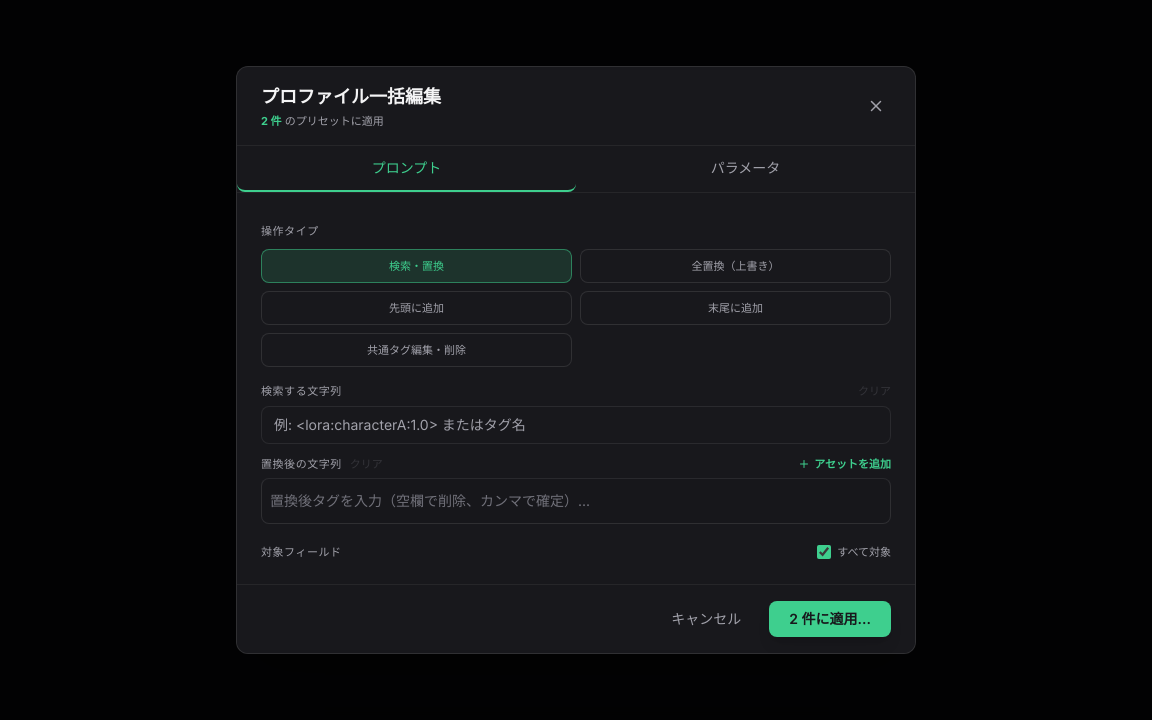
Test: ProfileBulkEditModal Component › REQ-297 Enhanced Bulk Edit Features (AC-1 to AC-7, Red Team) › AC-5: allows multi-selection in search_replace, enforces single exclusive selection in overwrite/prefix/suffix
Expected: the checkbox labelled "すべて対象" is shown, [817,545,831,559]
// Switch to '先頭に追加' (prefix)
Click the button "先頭に追加". click: (416, 308)
box: [261,291,572,325]
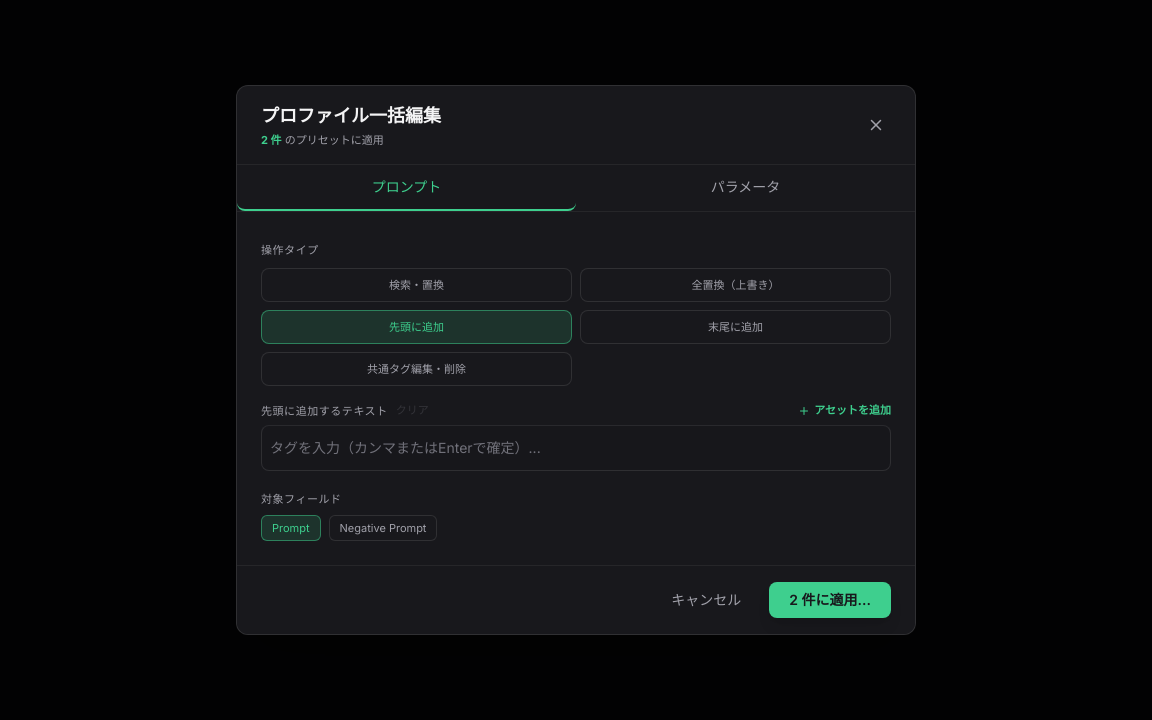
Expected: the label labelled "すべて対象" is gone
Expected: the radio button labelled "Prompt" is checked, [261,515,321,541]
Expected: the radio button labelled "Negative Prompt" is not checked
// Selecting negative prompt should uncheck prompt
Click the radio button labelled "Negative Prompt". click: (383, 528)
box: [329,515,438,541]
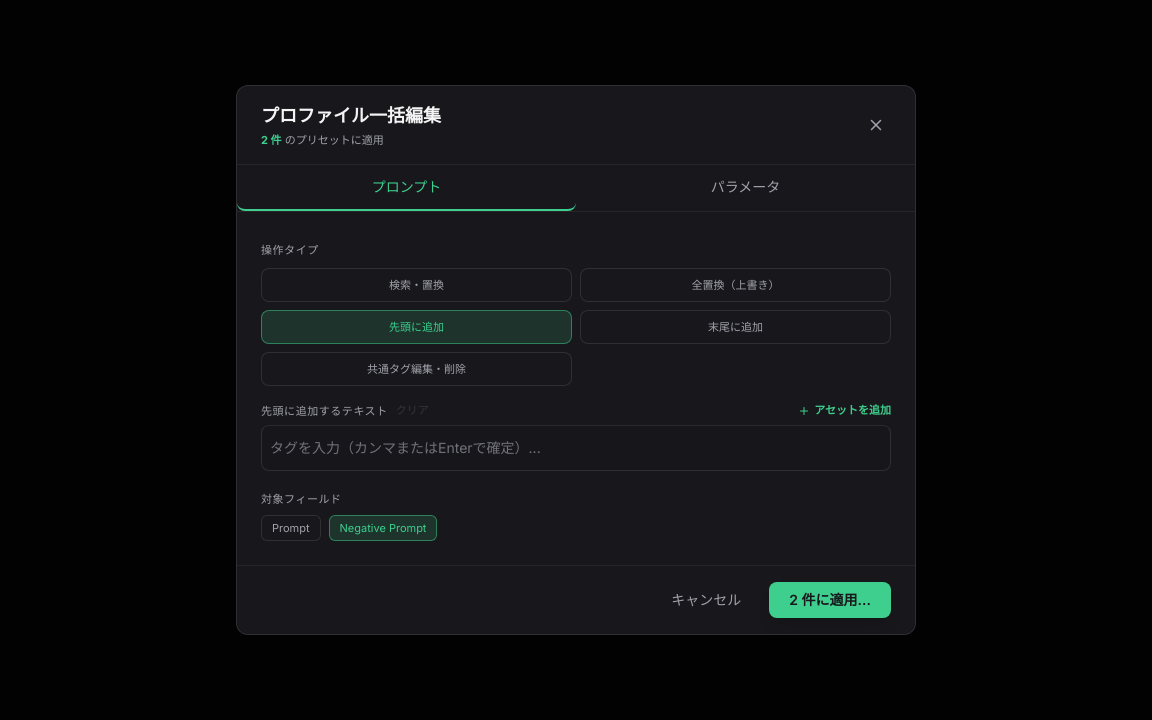
Expected: the radio button labelled "Negative Prompt" is checked, [329,515,438,541]
Expected: the radio button labelled "Prompt" is not checked, [261,515,321,541]
